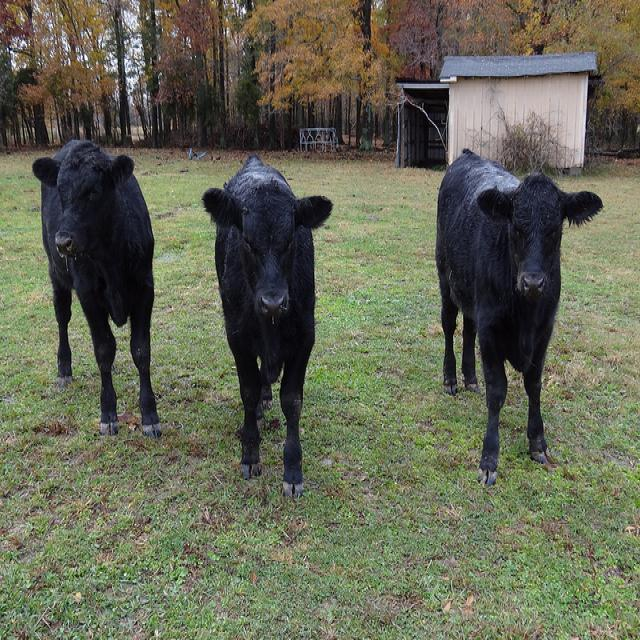cow: (429, 143, 609, 485), (200, 151, 334, 496), (30, 138, 160, 442)
